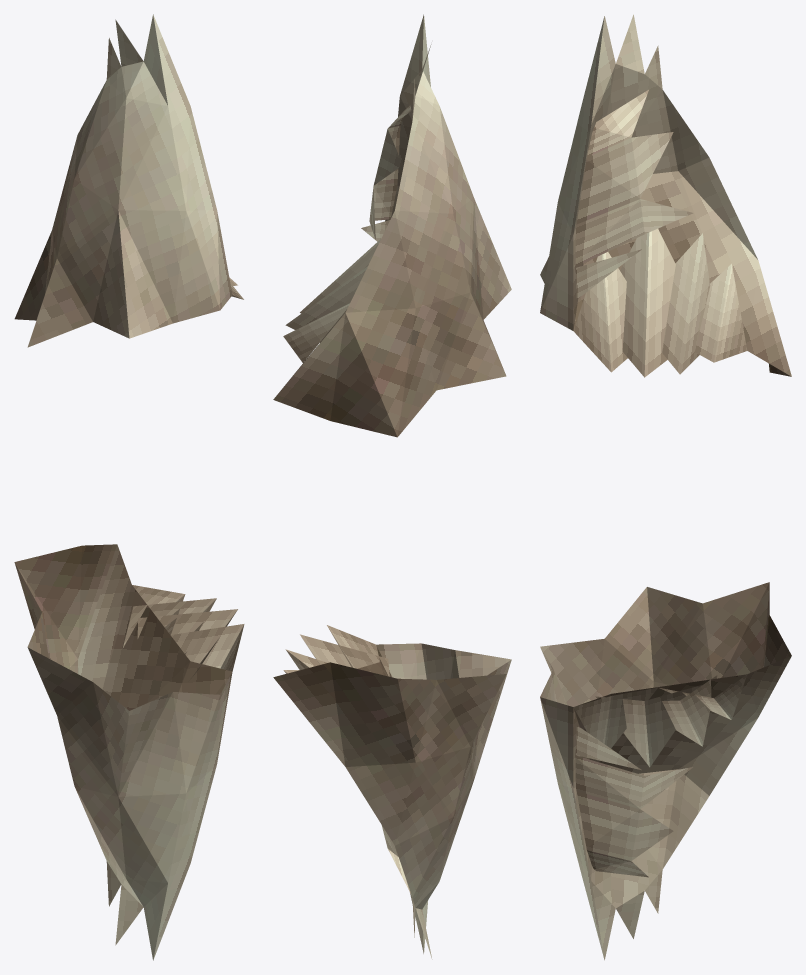
The model's file is Npc_69010.obj.
3 views of the same model, side by side, from view 1: azimuth 30°, elevation 25°; view 2: azimuth 150°, elevation 25°; view 3: azimuth 270°, elevation 25° (orthographic).
Parts seen in each view (by area): view 1: Npc_69010; view 2: Npc_69010; view 3: Npc_69010.
Boxes of the visible parts, <box> form: Npc_69010: <box>14,14,244,960</box>; Npc_69010: <box>273,14,511,959</box>; Npc_69010: <box>540,14,791,960</box>.
Size of the model in its own units: 0.1951 by 0.8424 by 0.2034.
1 material, 1 textured.
